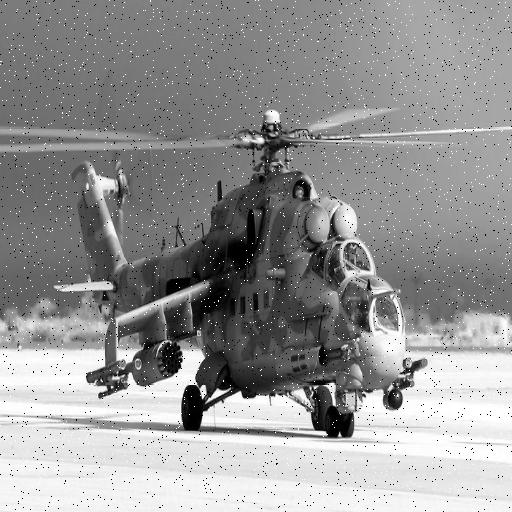helicopter: (1, 114, 512, 438)
